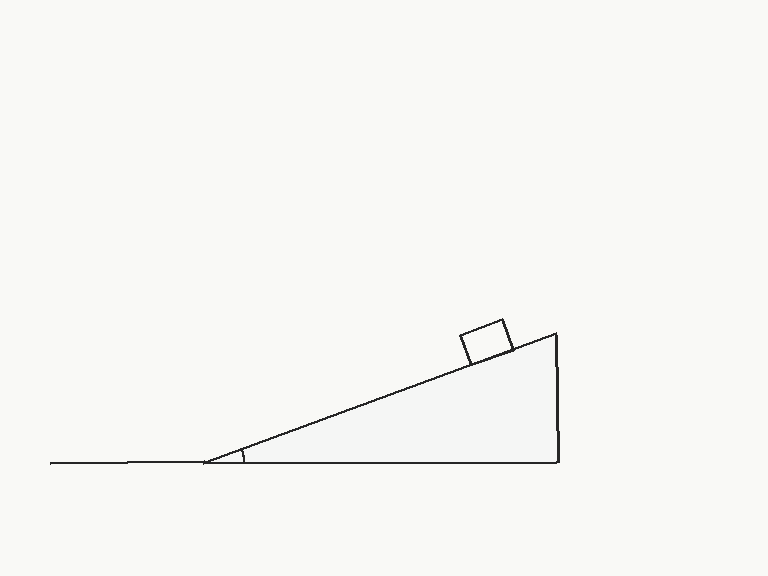block: (458, 317, 515, 367)
ramp: (202, 332, 558, 464)
